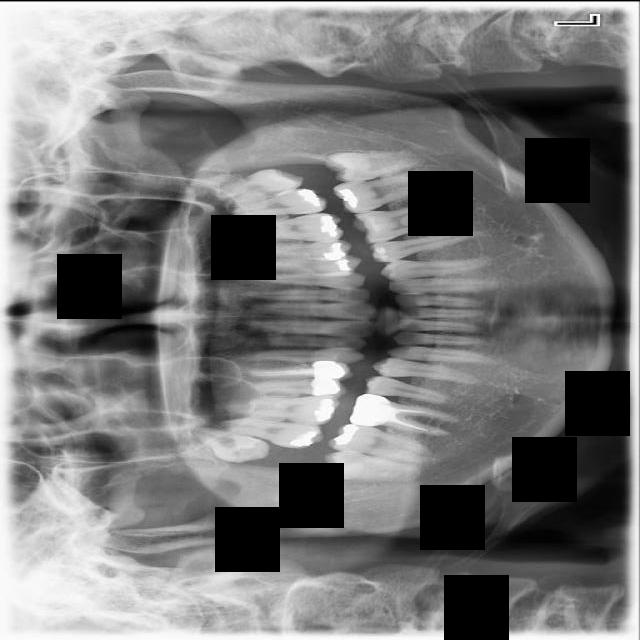3M ESPE Implant: (188, 422, 274, 471)
52: (331, 173, 385, 219), (348, 388, 393, 433), (274, 184, 330, 218), (286, 393, 341, 425), (293, 212, 344, 242), (269, 421, 325, 448), (312, 252, 362, 279), (369, 236, 411, 264), (311, 358, 354, 381), (310, 375, 349, 400), (310, 239, 350, 261)
73: (381, 398, 461, 442), (240, 362, 313, 381), (576, 40, 586, 46)
BioHorizons Implant: (216, 186, 329, 218)
BioLife Implant: (201, 160, 307, 212)
Biomet 3i Implant: (323, 149, 425, 183)
Blue Sky Bio Implant: (331, 169, 434, 216)
Caries: (213, 414, 325, 450)
Implant: (327, 418, 439, 467)
Keystone Dental Implant: (320, 449, 424, 482)
